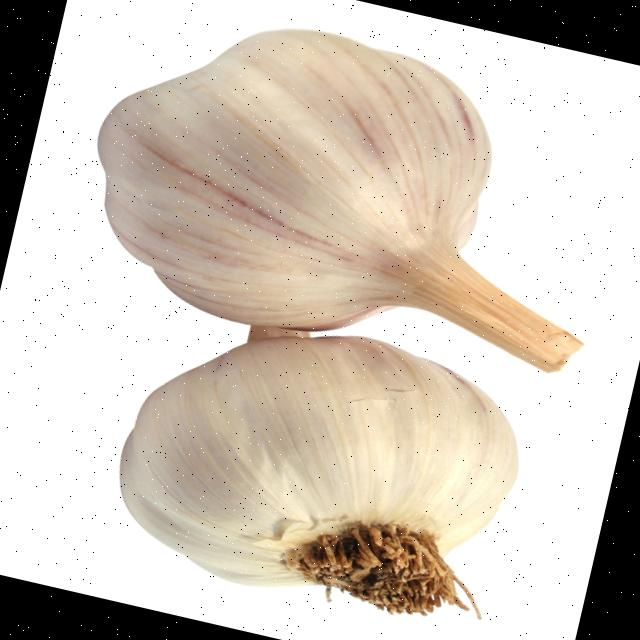garlic: (98, 29, 580, 371), (120, 336, 517, 585)
